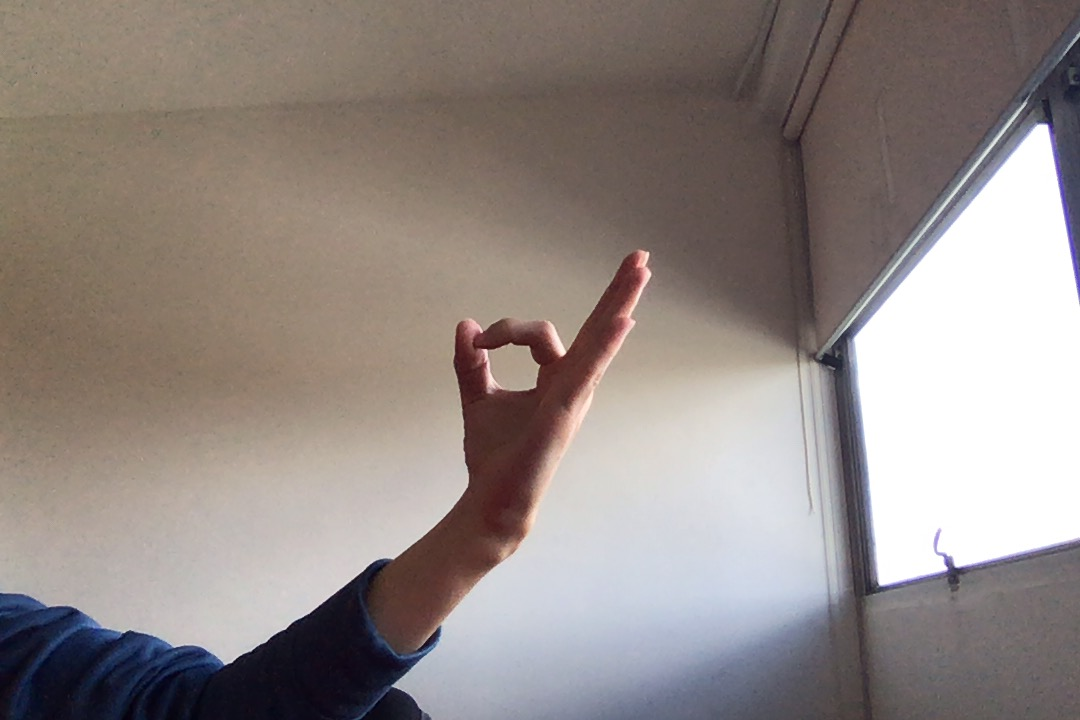oksign: (444, 245, 657, 526)
